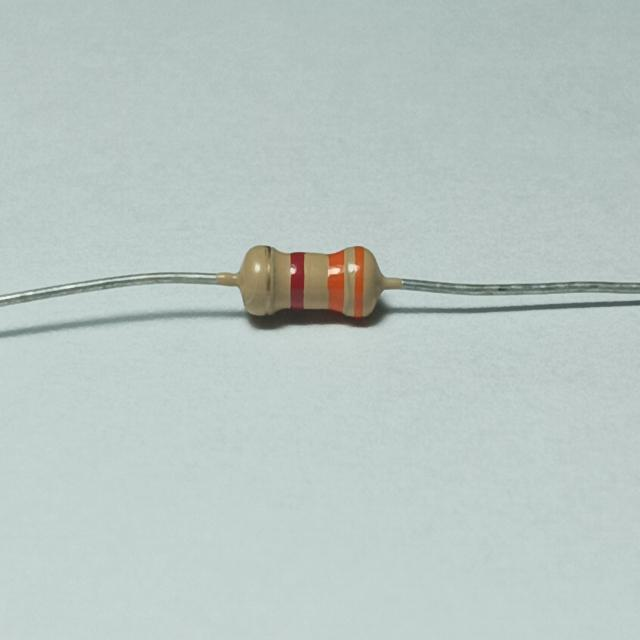3.3k ohms: (218, 220, 395, 346)
